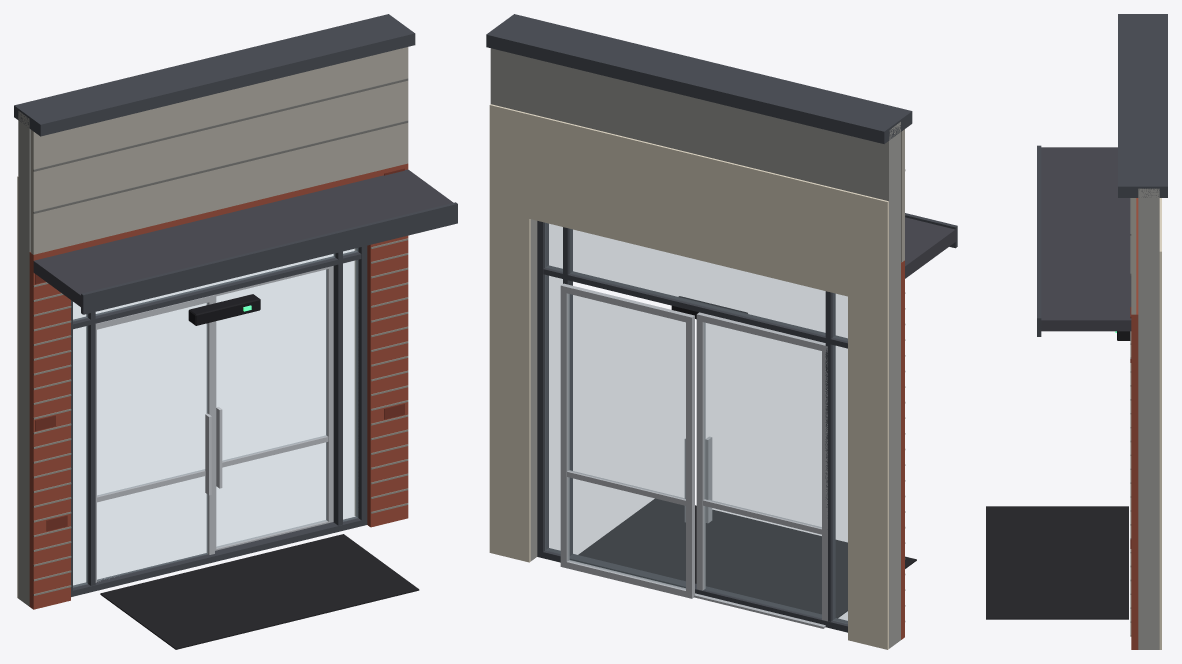
The model's file is Mart_Wall_Door_Slide_4m.fbx.
3 renders of one model, left to right at view 1: azimuth 30°, elevation 25°; view 2: azimuth 150°, elevation 25°; view 3: azimuth 270°, elevation 25°, orthographic. The views are drawn at different scales.
Visible parts, largest first — view 1: Mart_Wall_Door_Slide_4m, Mart_Wall_Door_Slide_4m_Leaf_L, Mart_Wall_Door_Slide_4m_Leaf_R; view 2: Mart_Wall_Door_Slide_4m, Mart_Wall_Door_Slide_4m_Leaf_R, Mart_Wall_Door_Slide_4m_Leaf_L; view 3: Mart_Wall_Door_Slide_4m.
Boxes of the visible parts, x1=… form: Mart_Wall_Door_Slide_4m: x1=14, y1=14, x2=457, y2=649; Mart_Wall_Door_Slide_4m_Leaf_L: x1=95, y1=295, x2=214, y2=582; Mart_Wall_Door_Slide_4m_Leaf_R: x1=215, y1=266, x2=333, y2=550; Mart_Wall_Door_Slide_4m: x1=486, y1=14, x2=957, y2=649; Mart_Wall_Door_Slide_4m_Leaf_R: x1=560, y1=283, x2=694, y2=598; Mart_Wall_Door_Slide_4m_Leaf_L: x1=696, y1=312, x2=827, y2=621; Mart_Wall_Door_Slide_4m: x1=986, y1=14, x2=1167, y2=649.
Size of the model in its own units: 4 by 5 by 1.78.
Materials: 2 (1 with a texture image).
